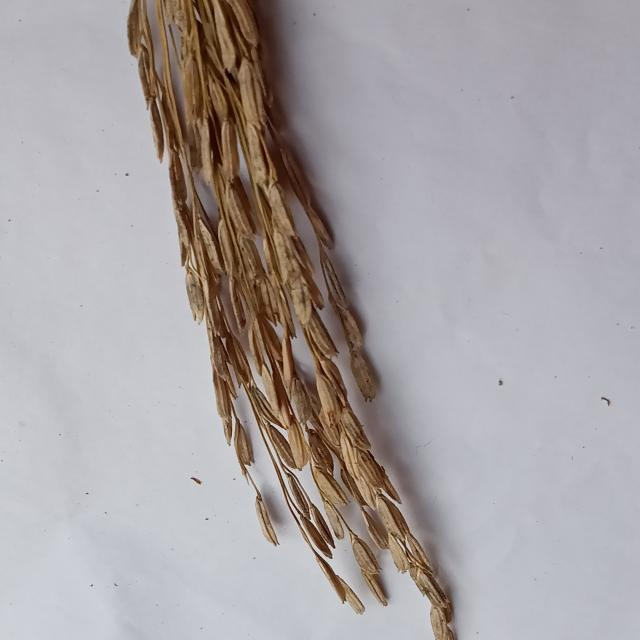Neck_Blast: (117, 0, 452, 640)
